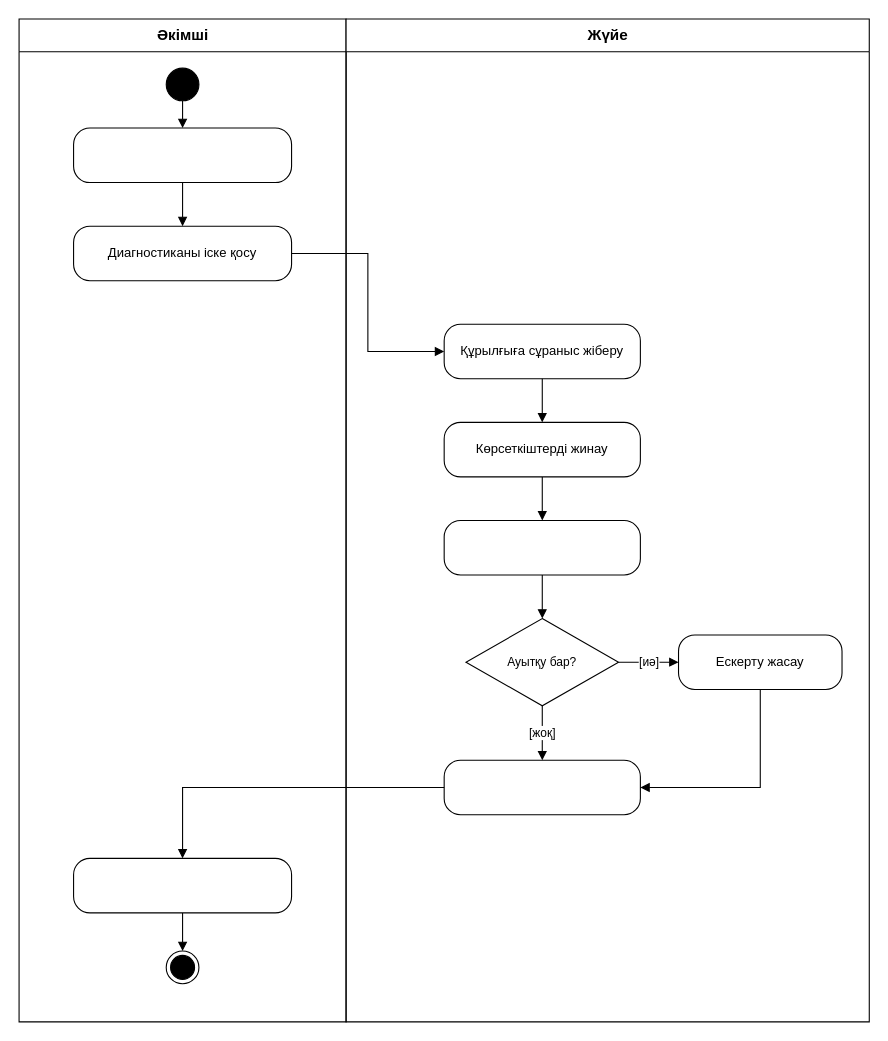
This 888x1041 diagram has some shape labels left out. The shapes that lost their labels are listed below. From the top down, each one's centre as x and y in pixels, then its label:
[182,155]: Құрылғыны тізімнен таңдау
[541,547]: Көрсеткіштерді шекті мәндермен салыстыру
[541,787]: Нәтижені журналға сақтау
[182,885]: Нәтижені қарау
